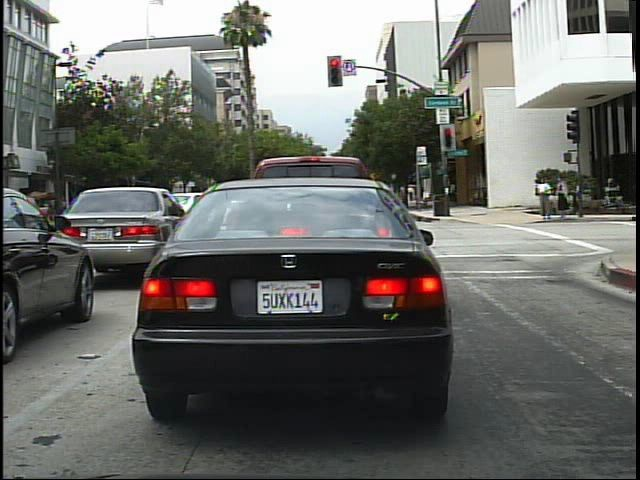person: (536, 171, 557, 222), (554, 171, 574, 222)
